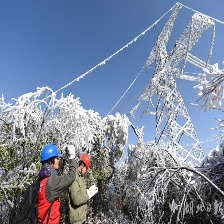helmet: (40, 143, 61, 161), (81, 154, 92, 168)
no-vest: (69, 173, 90, 222), (40, 168, 61, 210)
person: (38, 143, 68, 224), (69, 151, 96, 224)
